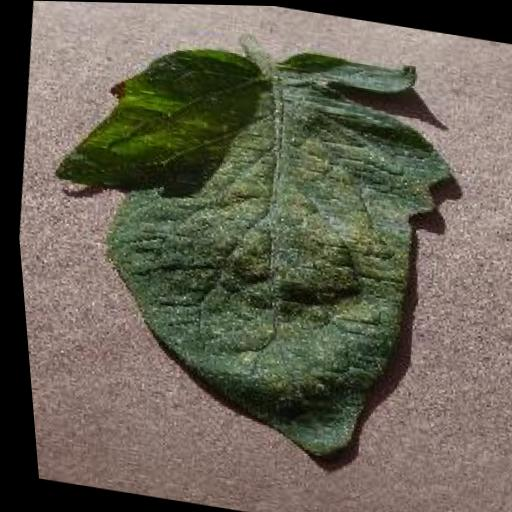Spider Mites: (8, 12, 475, 472)
